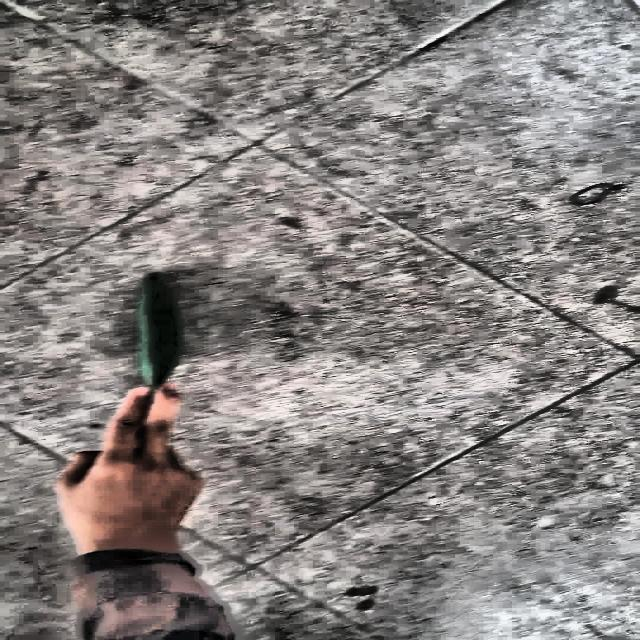payload: (138, 273, 180, 386)
